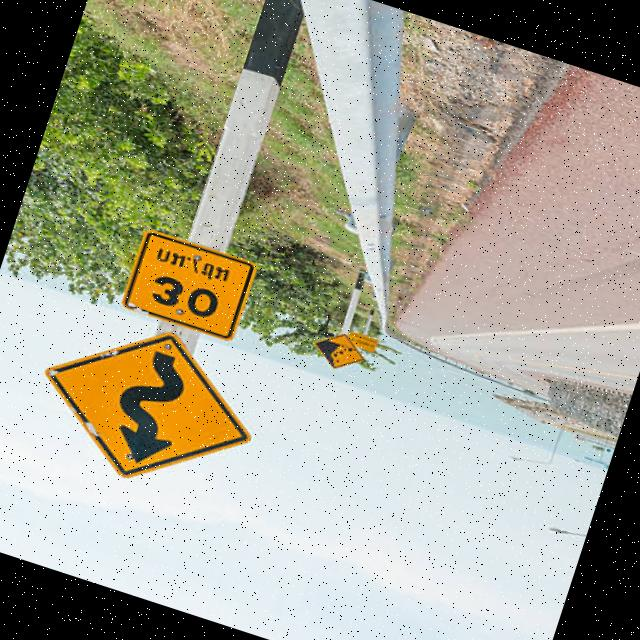left_sharp_curve: (4, 288, 286, 523)
